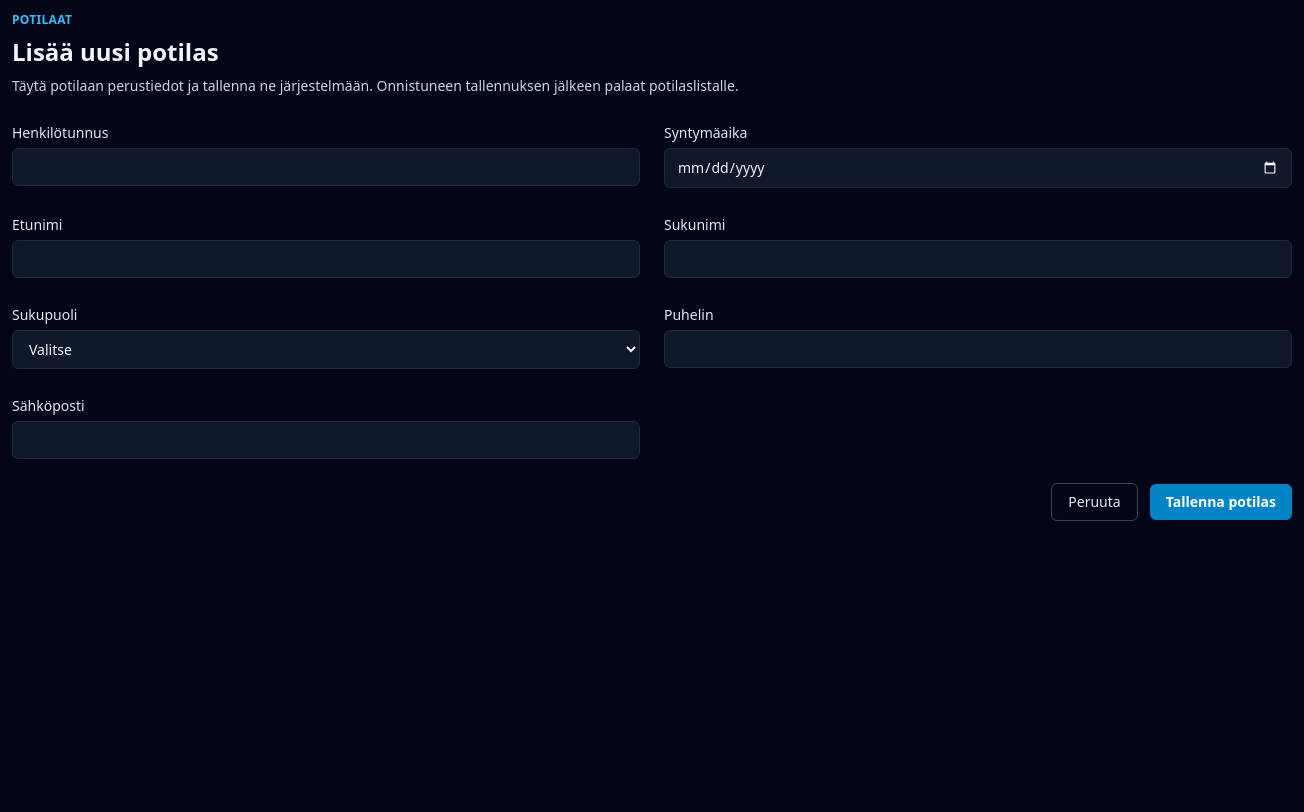
Scenario: PatientCreatePage › näyttää validointivirheet eikä lähetä pyyntöä
The width and height of the screenshot is (1304, 812).
Click the button "Tallenna potilas" at [1221, 502], box 1150,484 -> 1292,520
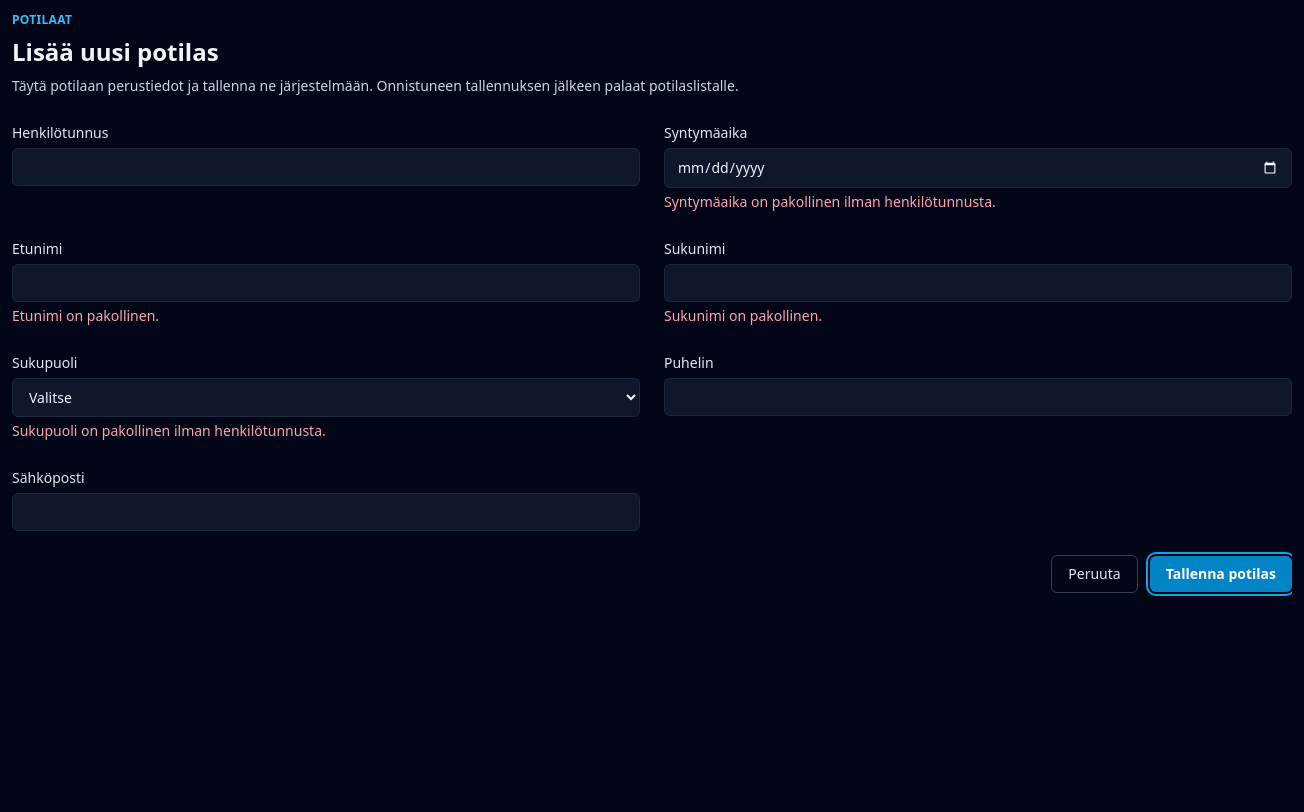
Check: the text "Syntymäaika on pakollinen ilman henkilötunnusta." is shown, box 664,192 -> 996,211
Check: the text "Sukupuoli on pakollinen ilman henkilötunnusta." is shown, box 12,421 -> 326,440
Check: the text "Etunimi on pakollinen." is shown, box 12,306 -> 159,325
